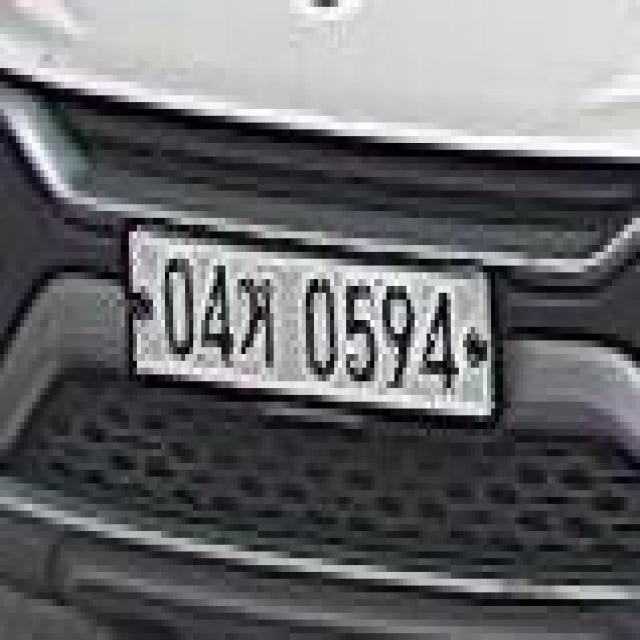illegal_plate: (127, 217, 504, 443)
